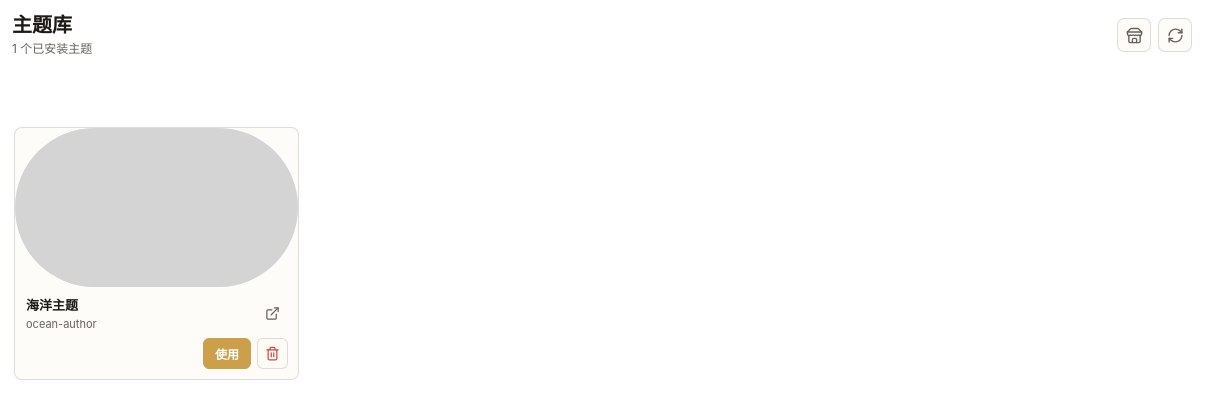
Scenario: DshThemesPage › does not expire a failed operation notice after ten seconds
Click the button "使用": (227, 353) [203, 338, 251, 369]
Wait 10000 ms
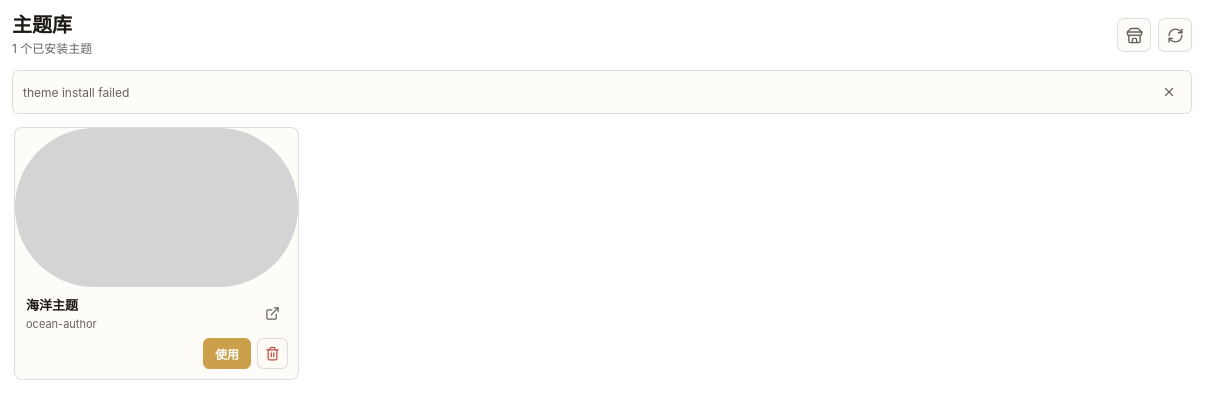
Now the text "theme install failed" is shown, box [23, 84, 129, 100]
